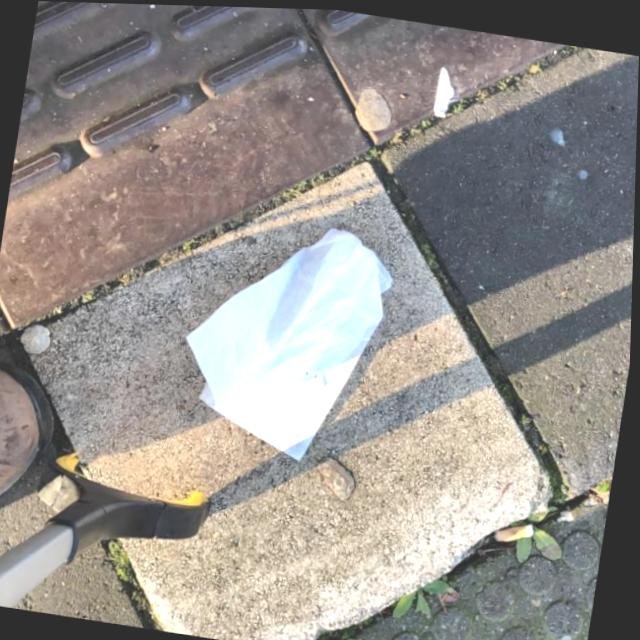Paper: (169, 204, 402, 471)
